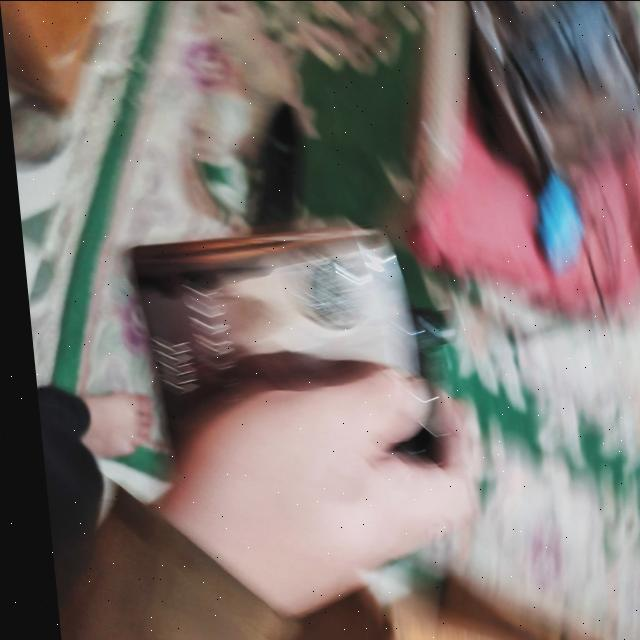Afnan: (119, 218, 640, 488), (120, 219, 448, 407), (464, 2, 588, 276)
